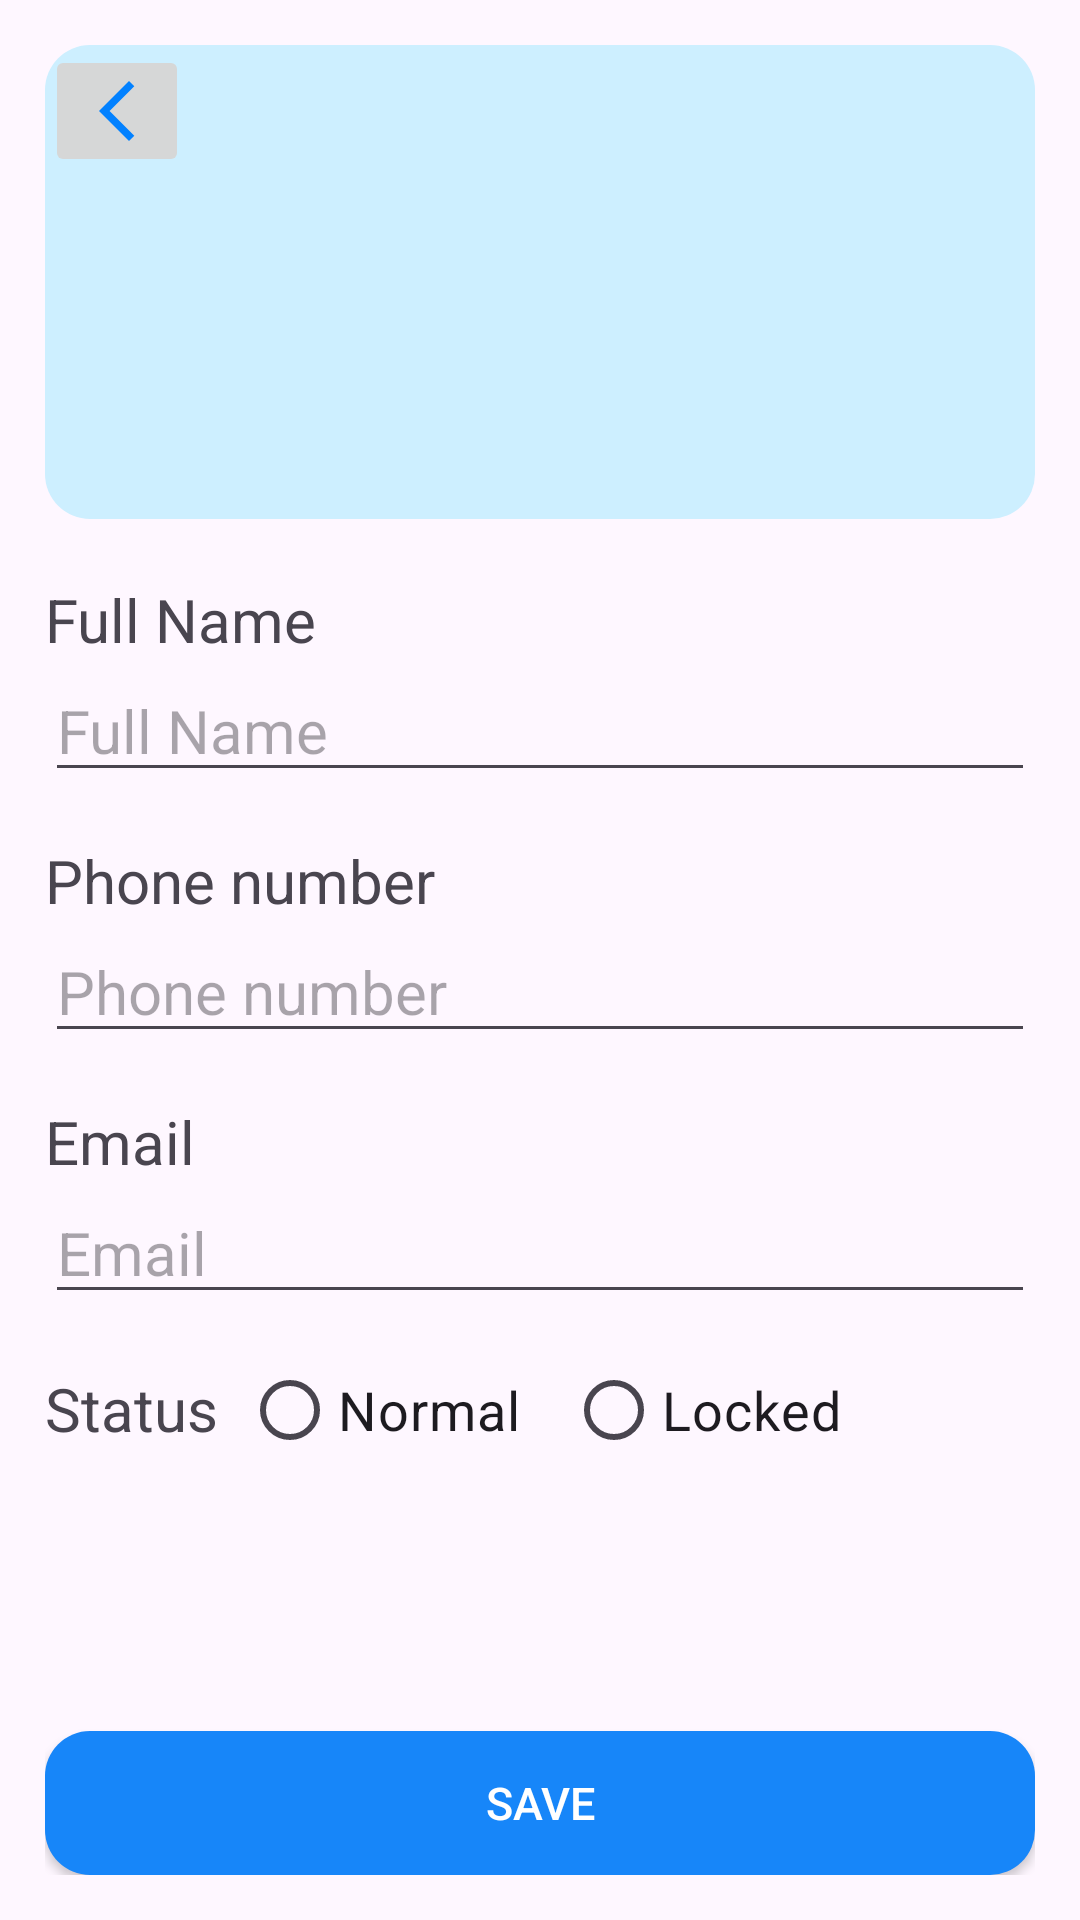

Screen size 1080px x 1920px. Icon name, then its center in pixels as (x,y):
back: (117,111)
